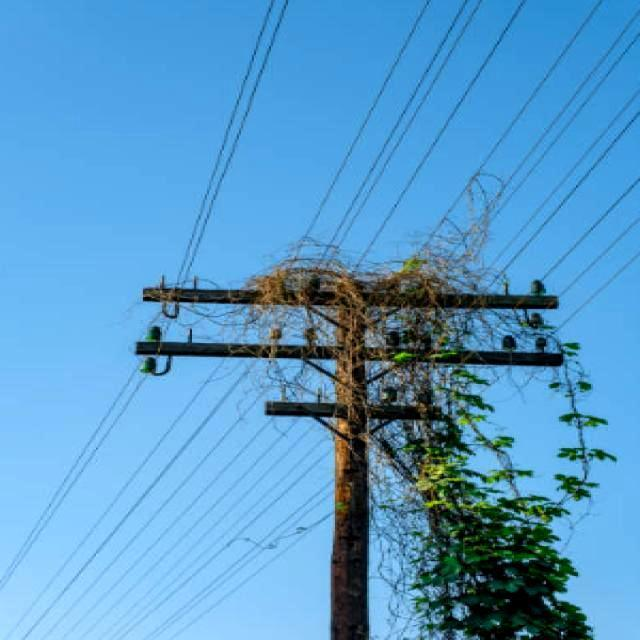critical vegetation: (232, 241, 491, 396), (373, 388, 508, 542)
